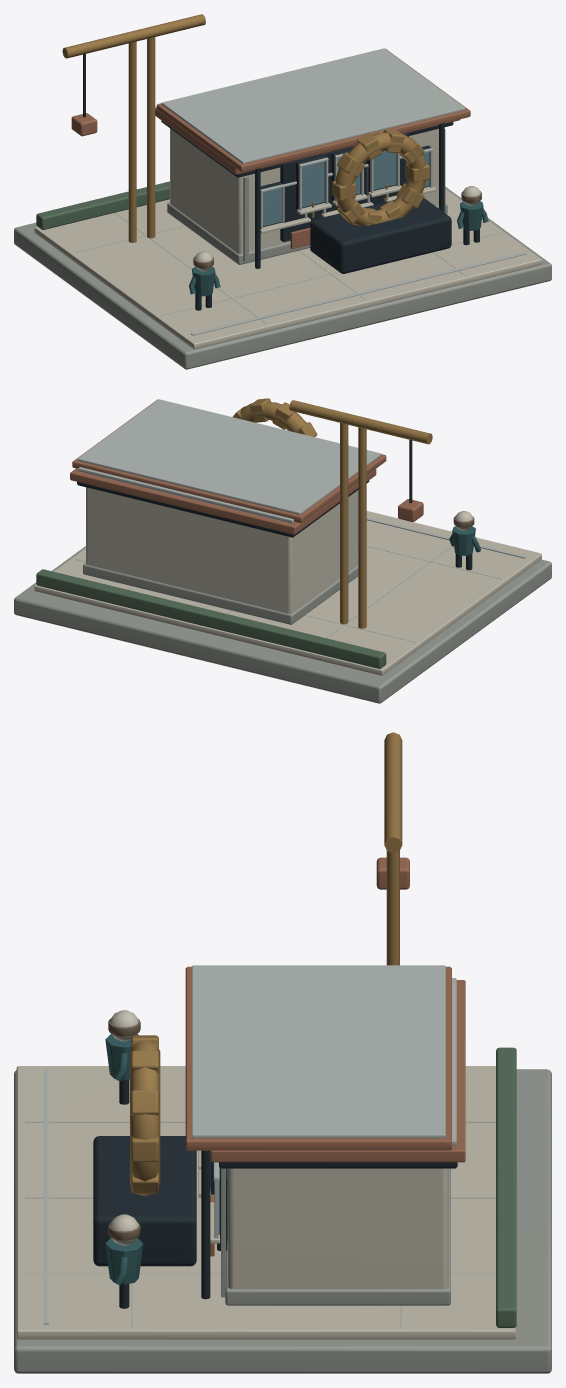
The model's file is idea-f8712023.glb.
3 views of the same model, one above another, from view 1: azimuth 30°, elevation 25°; view 2: azimuth 150°, elevation 25°; view 3: azimuth 270°, elevation 25° (orthographic). The views are drawn at different scales.
Visible parts, largest first — view 1: MIH Innovation Hub; view 2: MIH Innovation Hub; view 3: MIH Innovation Hub.
Boxes of the visible parts, x1,y1,x2,y2 form: MIH Innovation Hub: [14, 14, 551, 369]; MIH Innovation Hub: [14, 398, 551, 703]; MIH Innovation Hub: [14, 732, 551, 1373].
Bounding box in the file's own units: 4.8 × 2.91 × 3.9.
